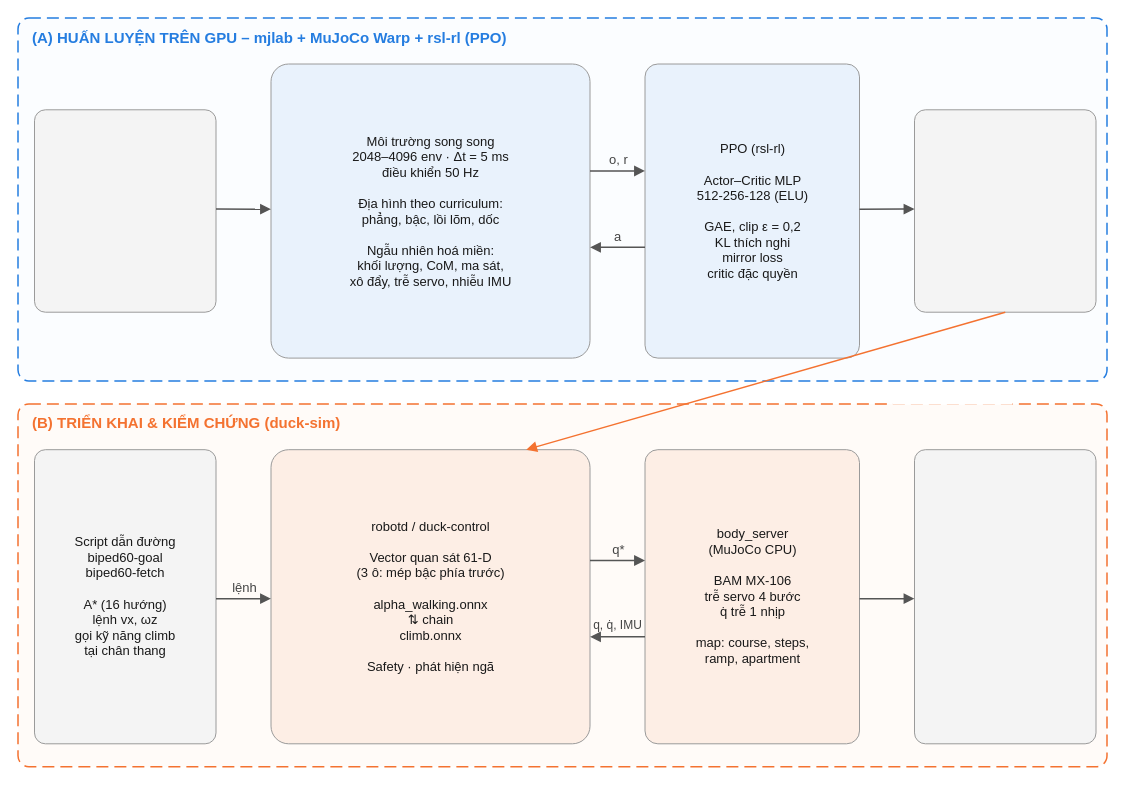
The diagram is 1125 pixels wide and 785 high, and some of its shapes have lost their labels. The shapes that lost their labels are listed below. From the top down, each one's centre as x and y in pixels, then its label:
At pixel 125 210: "Mô hình BIPED-C3 (MJCF, 14 khớp) Mô hình servo BAM (MX-106)".
At pixel 1005 210: "Checkpoint .pt ↓ ONNX obs[1,61] → actions[1,14]".
At pixel 952 394: "nạp policy ONNX".
At pixel 1005 596: "Camera đầu + chống rung Đánh giá theo vị trí thật trong mô phỏng".
